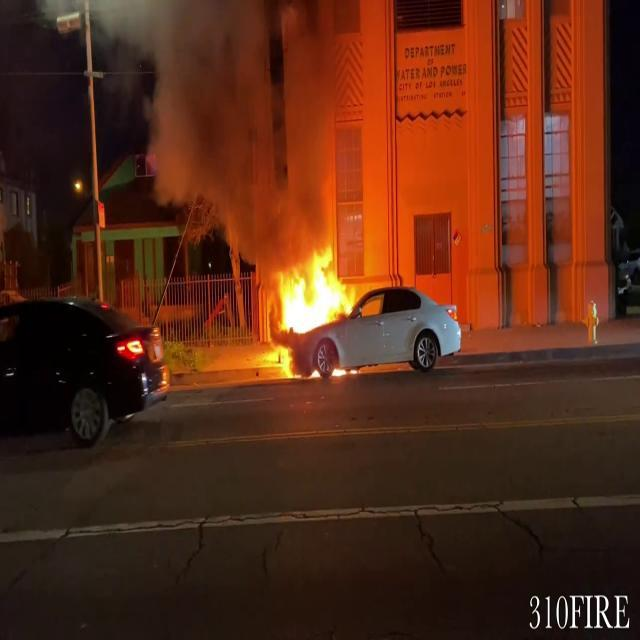Fire: (263, 240, 357, 366)
Smoke: (118, 0, 378, 238)
